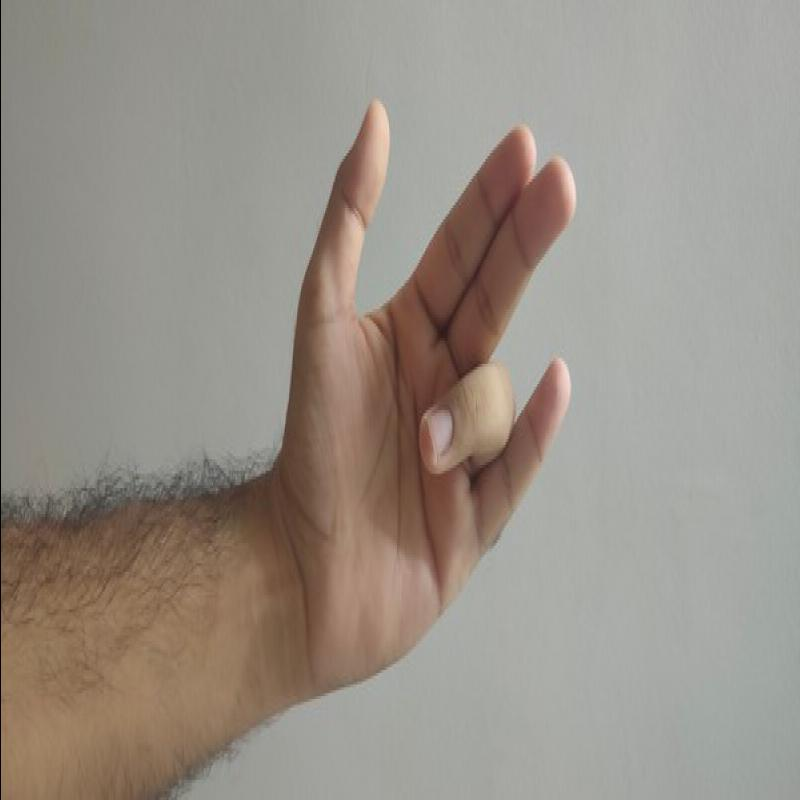Pathaaka: (258, 83, 598, 706)
